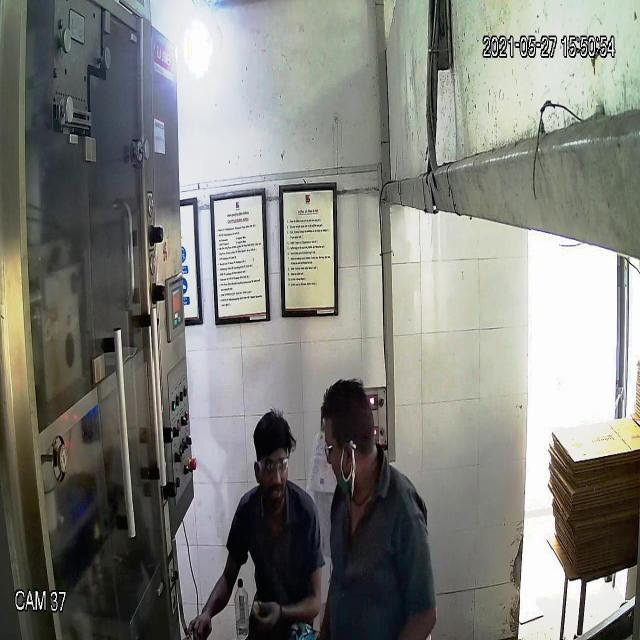glasses: (252, 452, 292, 482)
